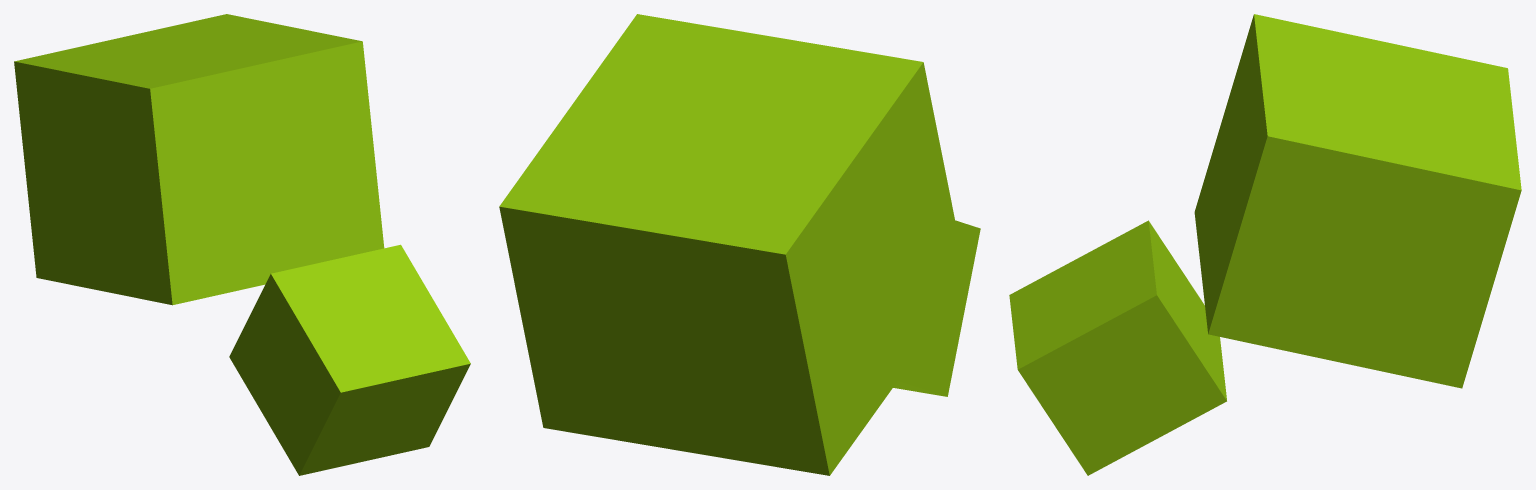
Rendered from tree_big_1_boxy.fbx.
The picture shows the model from 3 angles, left to right: view 1: azimuth 30°, elevation 25°; view 2: azimuth 150°, elevation 25°; view 3: azimuth 270°, elevation 25°; orthographic projection. The views are drawn at different scales.
Visible parts, largest first — view 1: tree_big_1_boxy; view 2: tree_big_1_boxy; view 3: tree_big_1_boxy.
Part boxes in pixels (bbox=[...]): tree_big_1_boxy: bbox=[14, 14, 470, 475]; tree_big_1_boxy: bbox=[499, 14, 980, 475]; tree_big_1_boxy: bbox=[1009, 14, 1521, 475].
Bounding box in the file's own units: 102 × 142 × 183.
